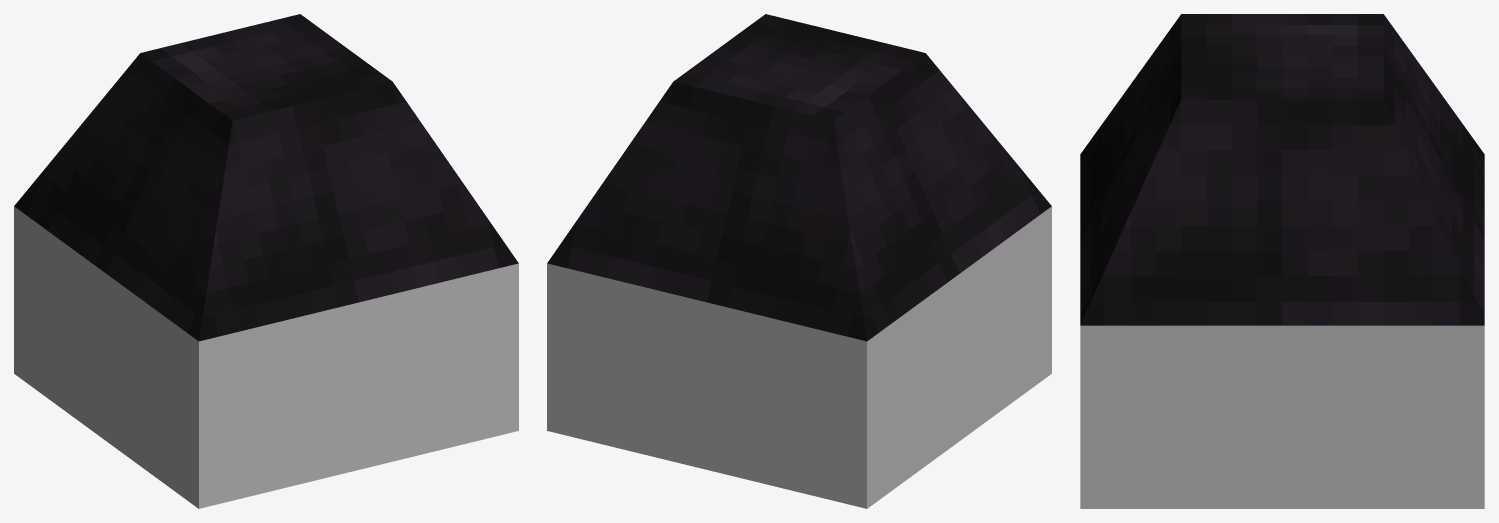
File: thaumostatic_supressor_base.obj
3 renders of one model, left to right at view 1: azimuth 30°, elevation 25°; view 2: azimuth 150°, elevation 25°; view 3: azimuth 270°, elevation 25°, orthographic. The views are drawn at different scales.
Parts seen in each view (by area): view 1: mesh_selection_selection, mesh; view 2: mesh_selection_selection, mesh; view 3: mesh_selection_selection, mesh.
Boxes of the visible parts, left/top/right/bottom form: mesh_selection_selection: left=14, top=14, right=518, bottom=341; mesh: left=14, top=206, right=518, bottom=508; mesh_selection_selection: left=547, top=14, right=1051, bottom=341; mesh: left=547, top=206, right=1051, bottom=508; mesh_selection_selection: left=1080, top=14, right=1484, bottom=325; mesh: left=1080, top=325, right=1484, bottom=508.
Bounding box in the file's own units: 1 × 1 × 1.
